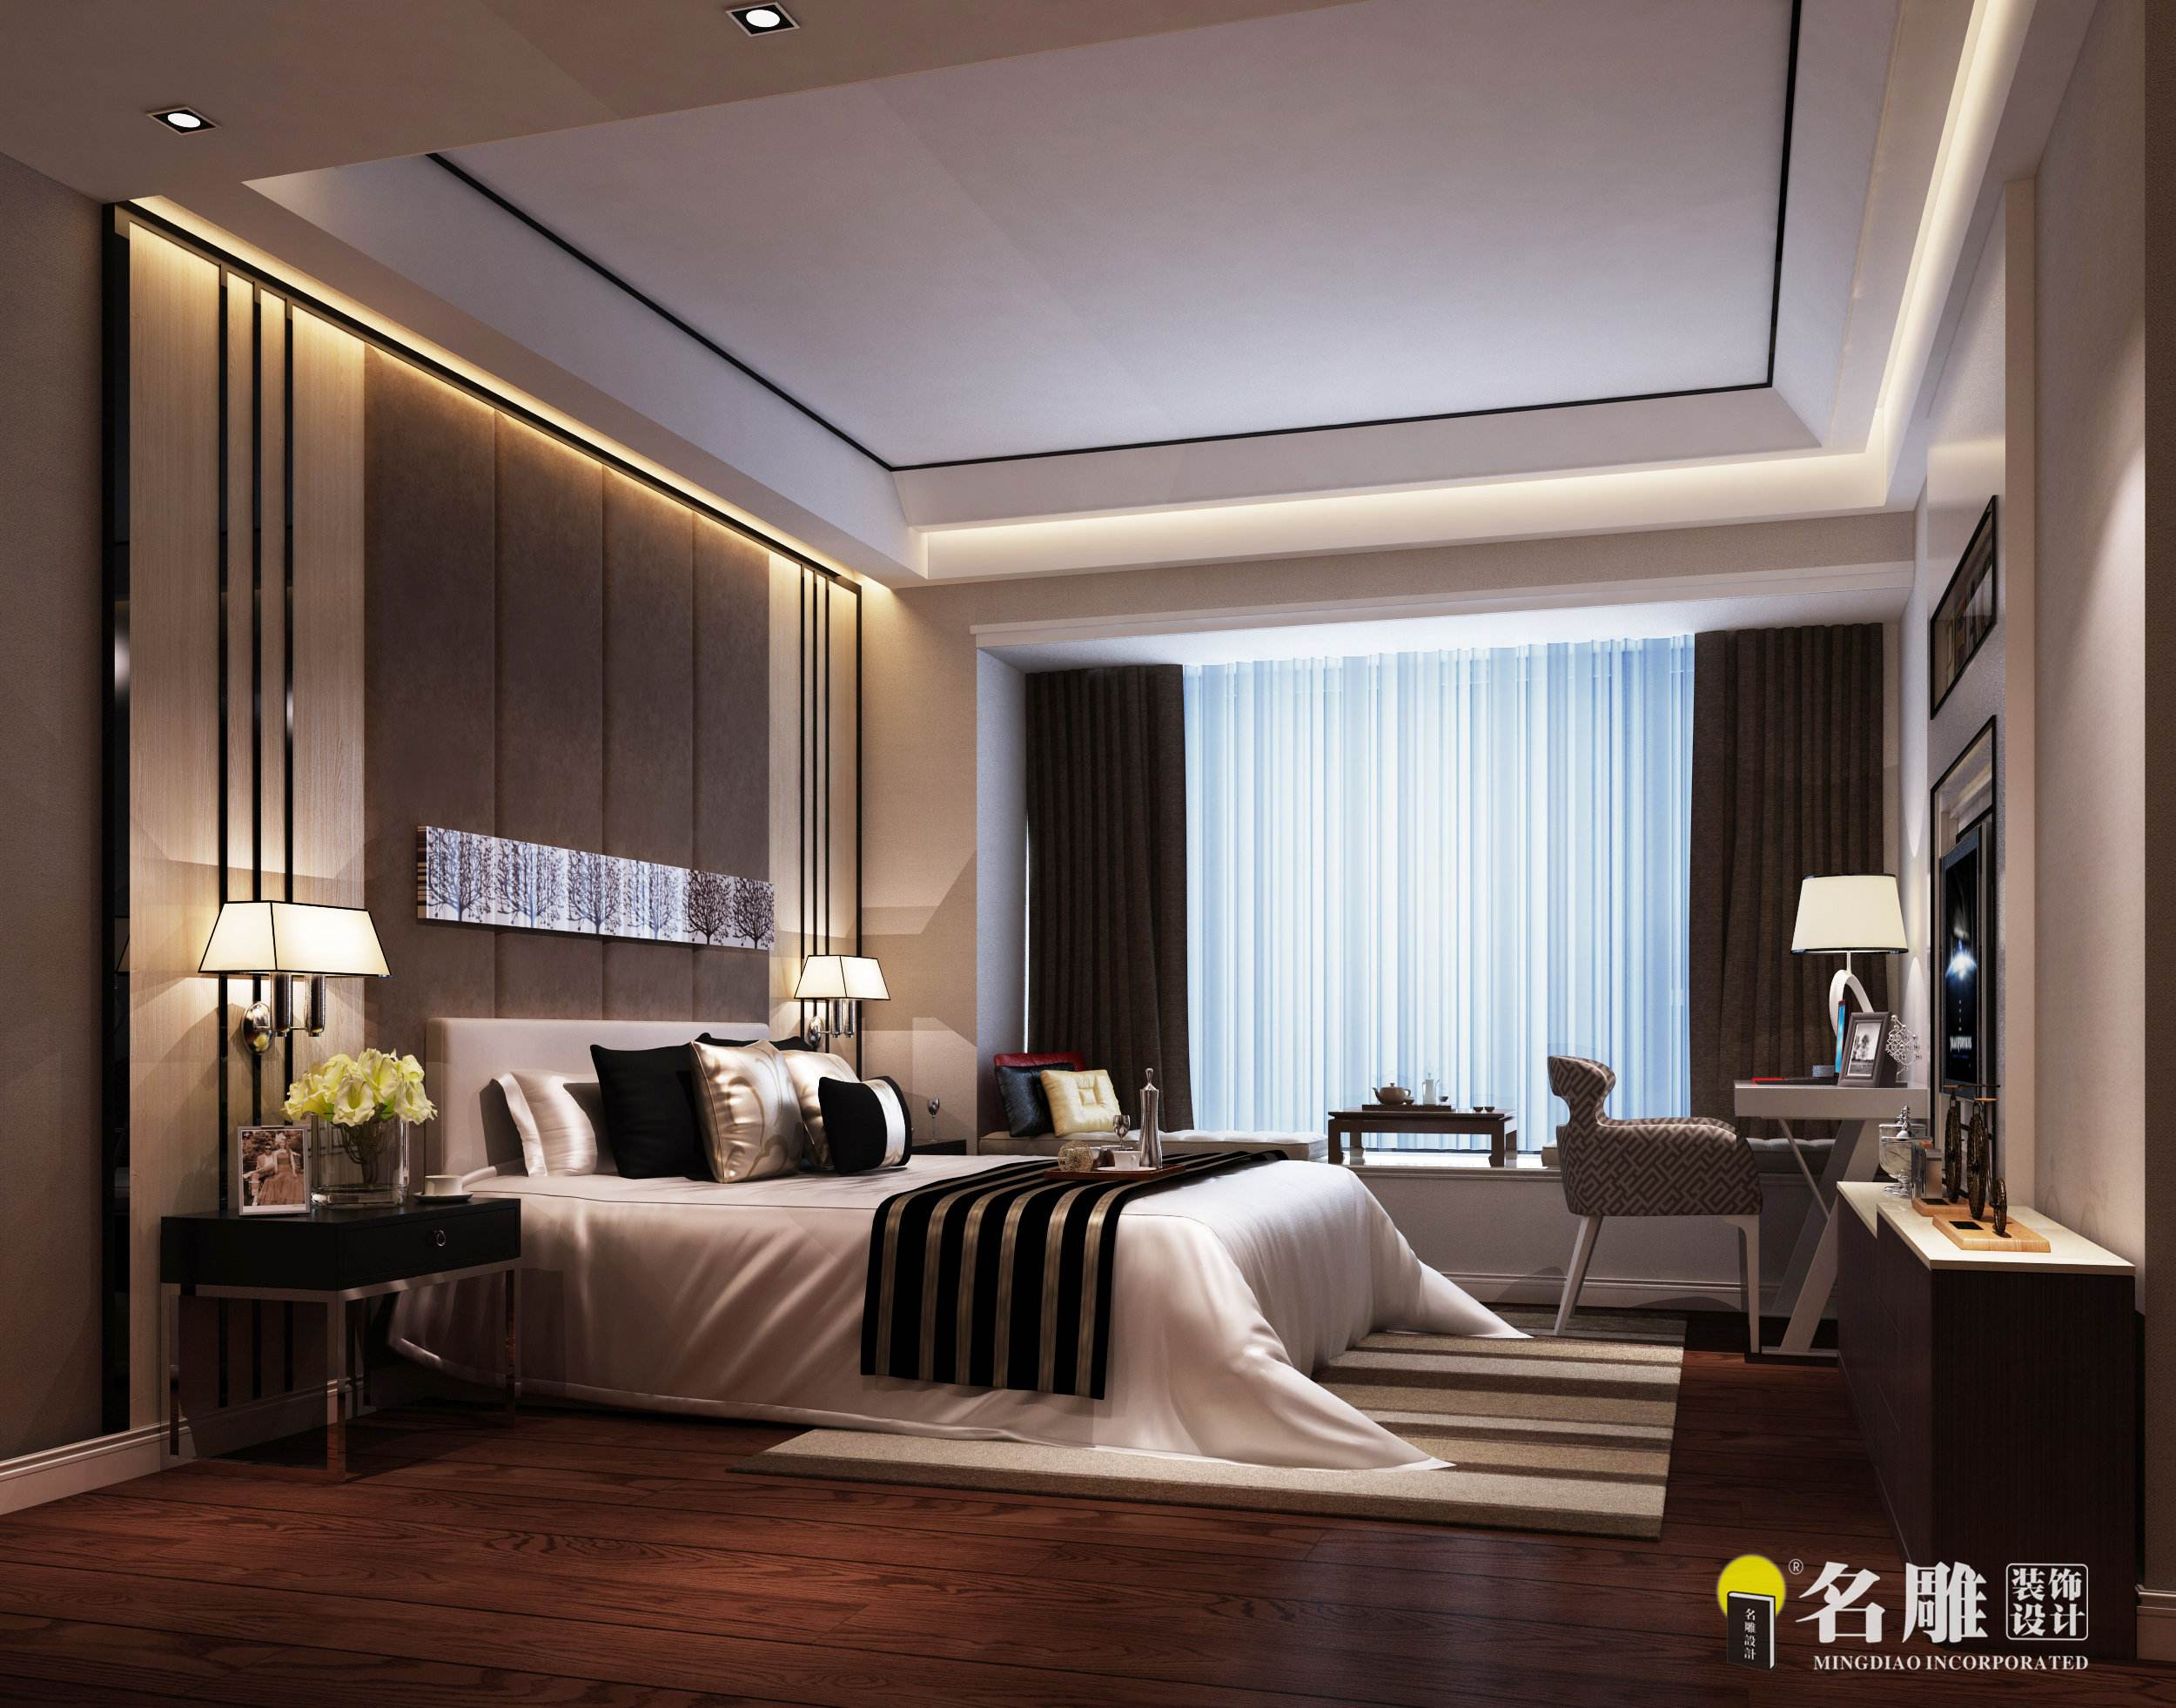床: (427, 1136, 1452, 1459)
枕头: (466, 1026, 915, 1192)
灯: (182, 880, 378, 1221), (1798, 864, 1929, 1086), (790, 940, 895, 1060), (729, 2, 805, 42), (147, 106, 221, 147)
